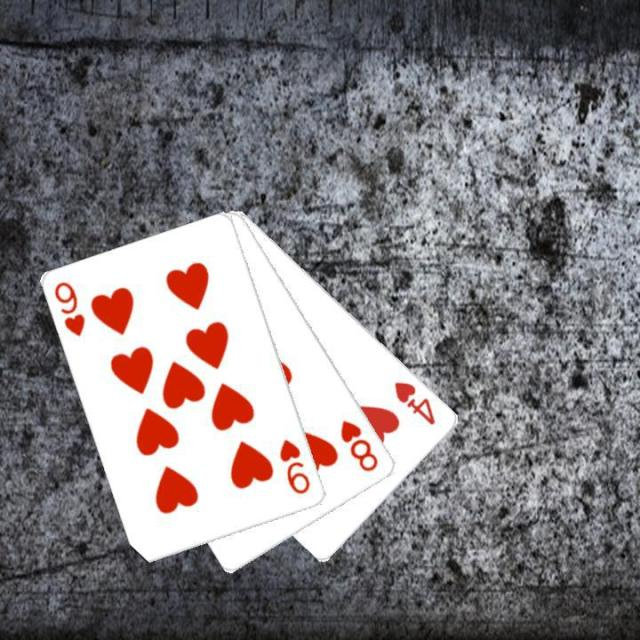4H: (390, 378, 438, 428)
8H: (337, 416, 380, 474)
9H: (275, 435, 313, 497), (51, 277, 88, 339)
